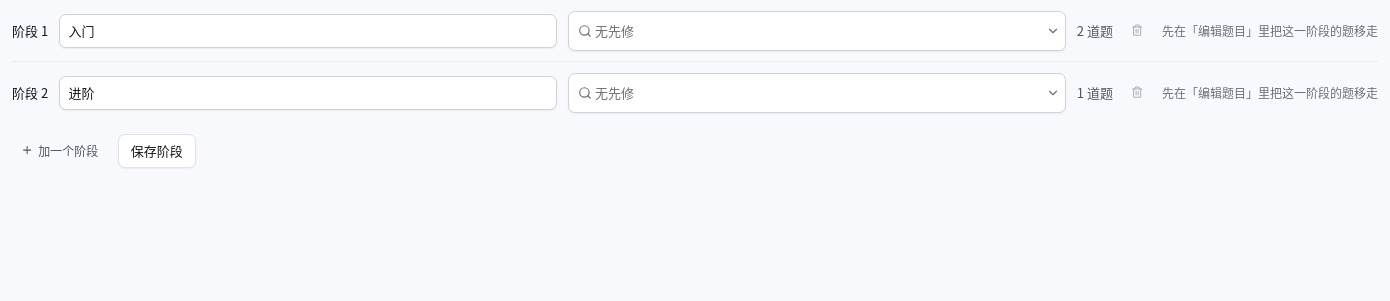
Test case: practice stage editor › shows the server message when saving stages fails
This screenshot has width=1390, height=301.
Expected: the button named "删除阶段 1" is shown, [1124,16,1152,44]
What coordinates should you click on to do the following:
click the button "加一个阶段"
I would click on:
 (60, 150)
Its box is [12,136,107,164].
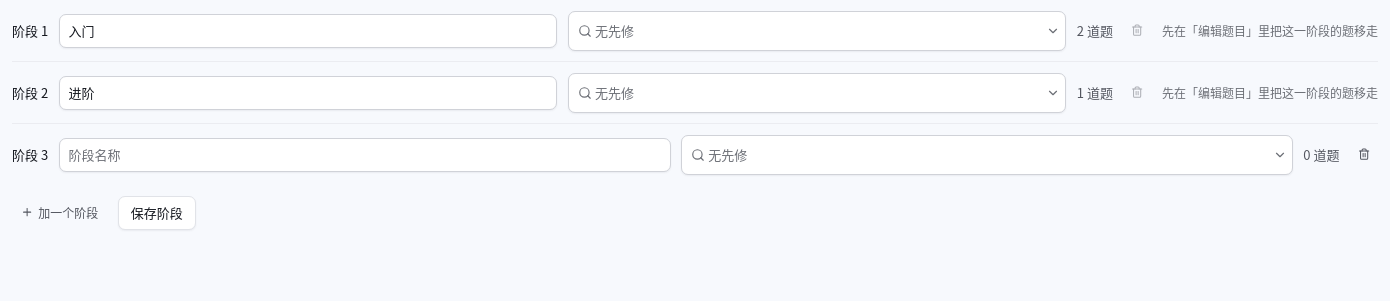
Expected: the field with placeholder "阶段名称" is empty, [59,138,670,172]
What coordinates should you click on to do the following:
click the button "保存阶段"
I would click on:
 (157, 212)
Its box is [118,196,196,230].
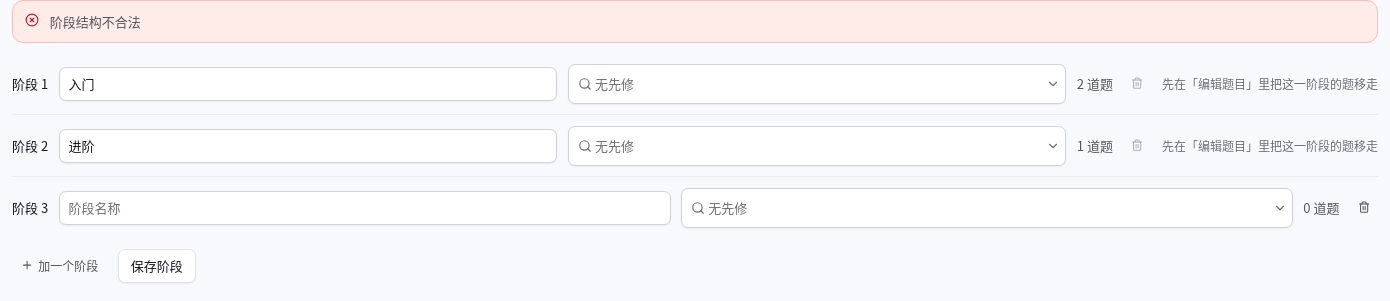
Expected: the button "保存阶段" is enabled, [118,248,196,282]
Expected: the field with placeholder "阶段名称" is empty, [59,190,670,224]
Expected: the message reads "阶段结构不合法", [50,12,141,30]
